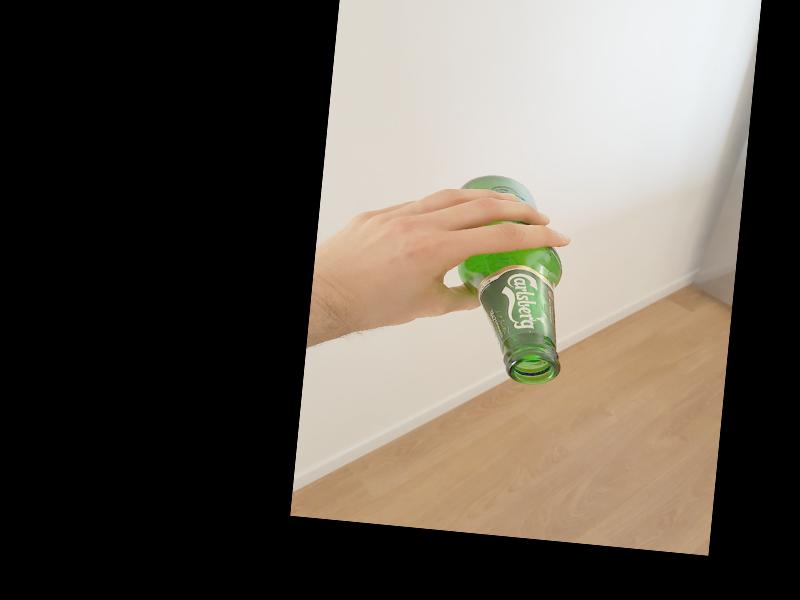Beer: (447, 173, 577, 387)
